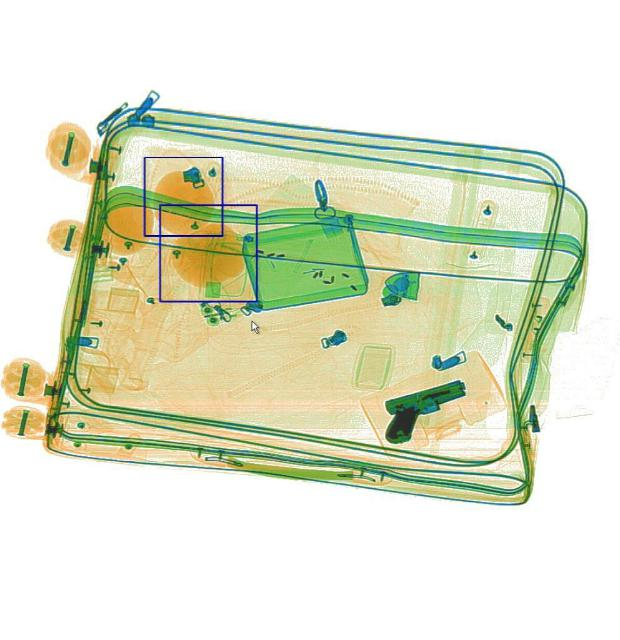Gun: (374, 376, 474, 444)
